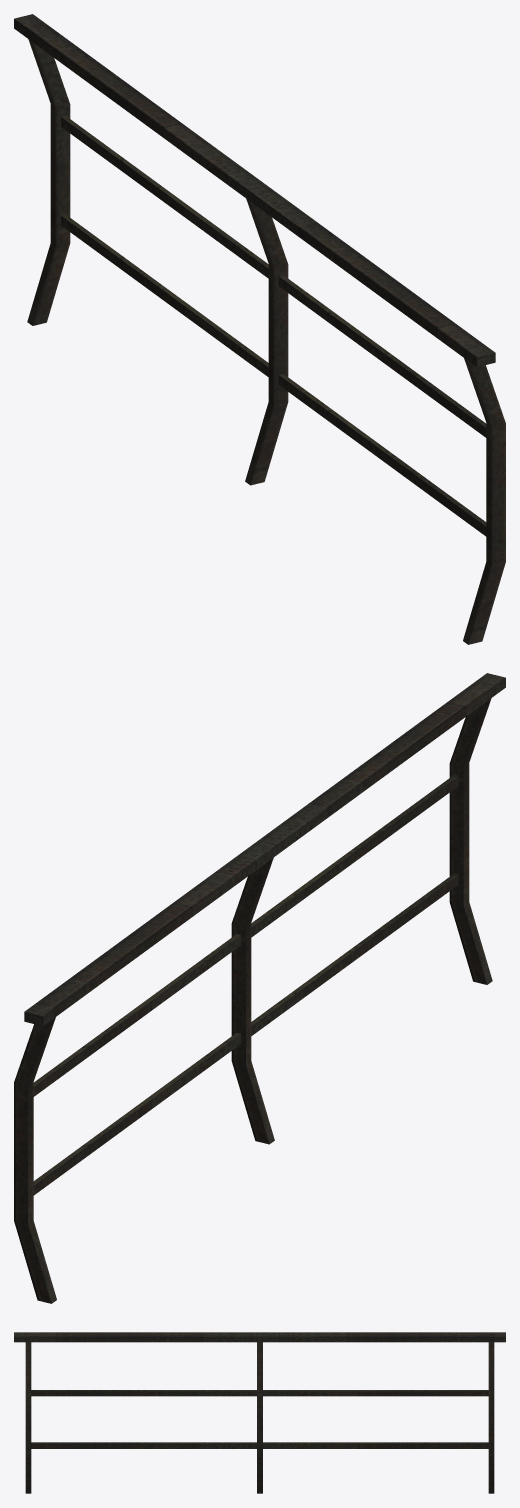
Rendered from platform_b_handrail_2.obj.
3 views of the same model, one above another, from view 1: azimuth 30°, elevation 25°; view 2: azimuth 150°, elevation 25°; view 3: azimuth 270°, elevation 25° (orthographic). The views are drawn at different scales.
Visible parts, largest first — view 1: platform_b_handrail_2; view 2: platform_b_handrail_2; view 3: platform_b_handrail_2.
Boxes of the visible parts, bbox=[...] form: platform_b_handrail_2: bbox=[14, 14, 505, 644]; platform_b_handrail_2: bbox=[14, 673, 505, 1303]; platform_b_handrail_2: bbox=[14, 1332, 505, 1493].
Size of the model in its own units: 0.17 by 1.2 by 3.4.
